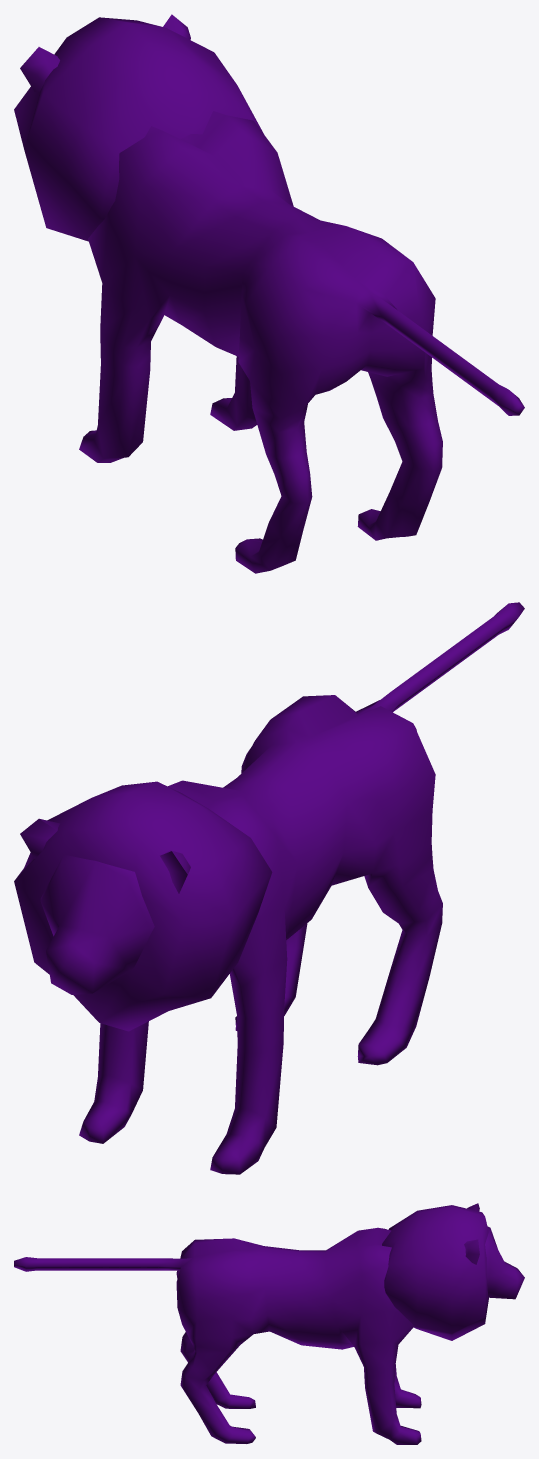
Rendered from lion_animal.fbx.
The picture shows the model from 3 angles, top to bottom: view 1: azimuth 30°, elevation 25°; view 2: azimuth 150°, elevation 25°; view 3: azimuth 270°, elevation 25°; orthographic projection. The views are drawn at different scales.
Visible parts, largest first — view 1: lion_body_1, lion_mane; view 2: lion_body_1, lion_mane; view 3: lion_body_1, lion_mane.
Boxes of the visible parts, bbox=[...] form: lion_body_1: bbox=[20, 14, 524, 573]; lion_mane: bbox=[14, 17, 263, 241]; lion_body_1: bbox=[20, 602, 524, 1174]; lion_mane: bbox=[14, 781, 272, 1031]; lion_body_1: bbox=[14, 1203, 524, 1444]; lion_mane: bbox=[382, 1205, 488, 1340].
Bounding box in the file's own units: 0.2886 × 0.5075 × 1.09.
